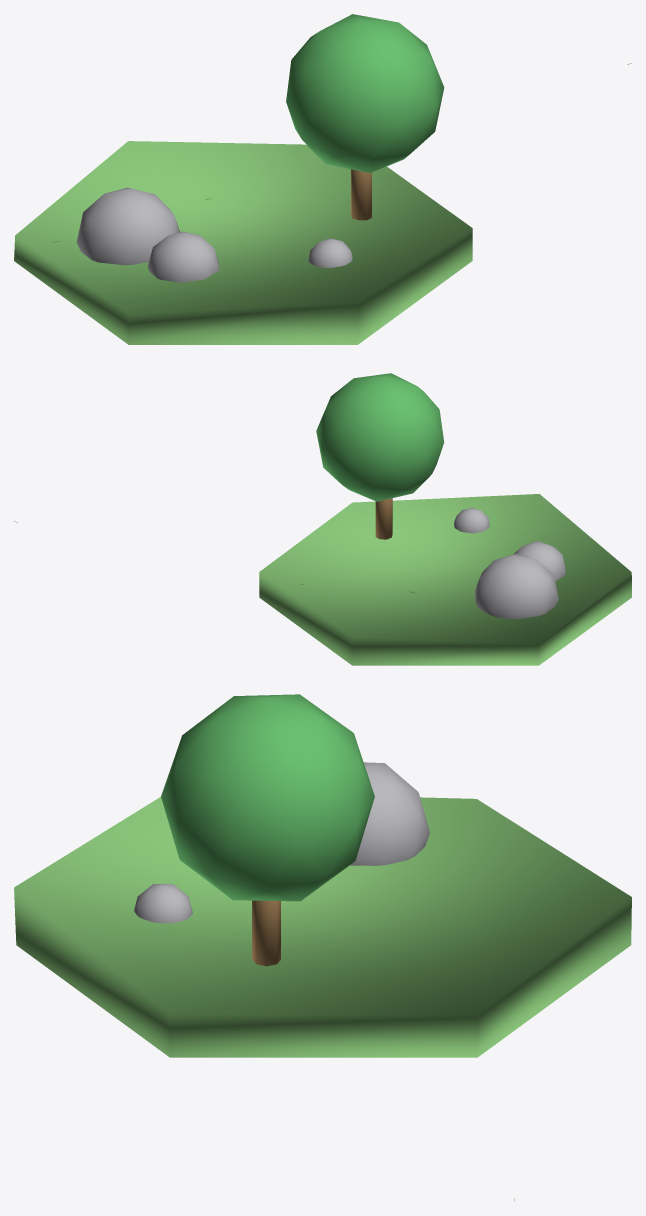
The model's file is grass_v2.glb.
The picture shows the model from 3 angles, top to bottom: view 1: azimuth 30°, elevation 25°; view 2: azimuth 150°, elevation 25°; view 3: azimuth 270°, elevation 25°; orthographic projection. The views are drawn at different scales.
Visible parts, largest first — view 1: grassland_tile_2.005, tree_crown_Icosphere.010, rock_Icosphere.050, rock_Icosphere.052, rock_Icosphere.051, tree_trunk_Cylinder.010; view 2: grassland_tile_2.005, tree_crown_Icosphere.010, rock_Icosphere.050, rock_Icosphere.052, rock_Icosphere.051, tree_trunk_Cylinder.010; view 3: grassland_tile_2.005, tree_crown_Icosphere.010, rock_Icosphere.050, tree_trunk_Cylinder.010, rock_Icosphere.051.
Part boxes in pixels (<box>): grassland_tile_2.005: <box>14,141,472,344</box>; tree_crown_Icosphere.010: <box>286,14,444,172</box>; rock_Icosphere.050: <box>76,187,179,265</box>; rock_Icosphere.052: <box>147,231,219,282</box>; rock_Icosphere.051: <box>308,238,352,267</box>; tree_trunk_Cylinder.010: <box>351,169,371,220</box>; grassland_tile_2.005: <box>259,494,631,665</box>; tree_crown_Icosphere.010: <box>316,373,444,501</box>; rock_Icosphere.050: <box>474,553,558,619</box>; rock_Icosphere.052: <box>514,541,565,581</box>; rock_Icosphere.051: <box>454,508,489,533</box>; tree_trunk_Cylinder.010: <box>375,498,392,539</box>; grassland_tile_2.005: <box>14,797,631,1057</box>; tree_crown_Icosphere.010: <box>161,694,374,901</box>; rock_Icosphere.050: <box>350,762,429,865</box>; tree_trunk_Cylinder.010: <box>252,900,280,966</box>; rock_Icosphere.051: <box>134,884,192,923</box>.
Bounding box in the file's own units: 1.62 × 0.584 × 1.03.
